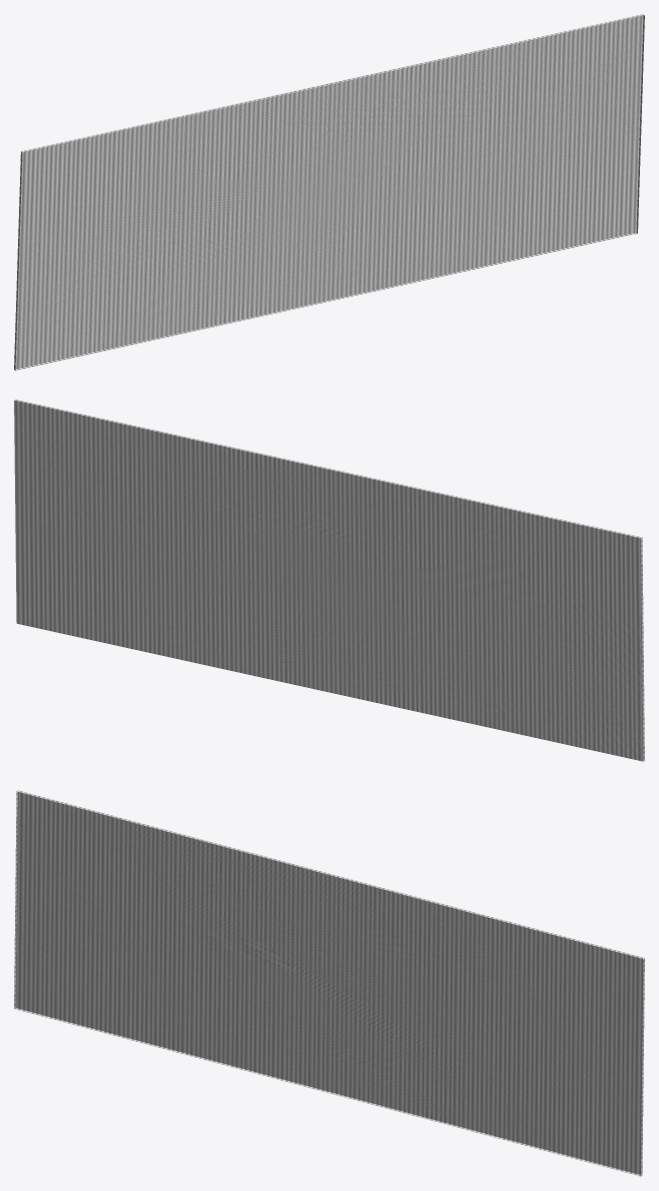
The model's file is original-249.obj.
3 renders of one model, top to bottom at view 1: azimuth 30°, elevation 25°; view 2: azimuth 150°, elevation 25°; view 3: azimuth 330°, elevation 25°, orthographic.
Parts seen in each view (by area): view 1: Group9/mesh100/mesh100-geometry/material_2#mesh100-geometry; view 2: Group9/mesh100/mesh100-geometry/material_2#mesh100-geometry; view 3: Group9/mesh100/mesh100-geometry/material_2#mesh100-geometry.
Part boxes in pixels (left/top/right/bottom): Group9/mesh100/mesh100-geometry/material_2#mesh100-geometry: left=14, top=14, right=644, bottom=370; Group9/mesh100/mesh100-geometry/material_2#mesh100-geometry: left=14, top=399, right=644, bottom=761; Group9/mesh100/mesh100-geometry/material_2#mesh100-geometry: left=14, top=790, right=644, bottom=1176.
Bounding box in the file's own units: 0.4364 × 0.1553 × 0.00469.
